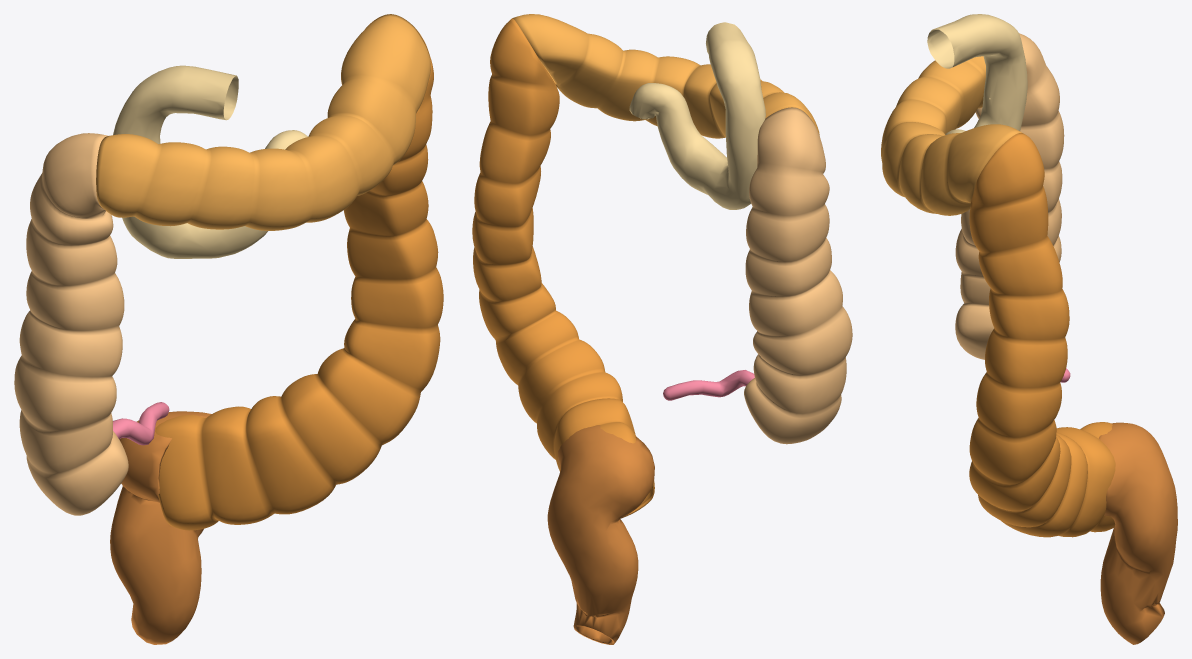
The model's file is gut.glb.
The picture shows the model from 3 angles, left to right: view 1: azimuth 30°, elevation 25°; view 2: azimuth 150°, elevation 25°; view 3: azimuth 270°, elevation 25°; orthographic projection. The views are drawn at different scales.
Visible parts, largest first — view 1: Descending colon.001, Transverse colon.001, Ascending colon.001, Sigmoid colon.001, Duodenum.001, Vermiform appendix.001; view 2: Descending colon.001, Ascending colon.001, Sigmoid colon.001, Transverse colon.001, Duodenum.001, Vermiform appendix.001; view 3: Descending colon.001, Transverse colon.001, Sigmoid colon.001, Ascending colon.001, Duodenum.001.
Boxes of the visible parts, x1,y1,x2,y2 form: Descending colon.001: [155, 17, 443, 530]; Transverse colon.001: [96, 14, 430, 230]; Ascending colon.001: [14, 133, 128, 515]; Sigmoid colon.001: [110, 411, 211, 644]; Duodenum.001: [113, 65, 308, 258]; Vermiform appendix.001: [113, 402, 169, 445]; Descending colon.001: [472, 18, 654, 518]; Ascending colon.001: [744, 107, 852, 444]; Sigmoid colon.001: [547, 425, 654, 644]; Transverse colon.001: [512, 14, 819, 138]; Duodenum.001: [629, 22, 765, 209]; Vermiform appendix.001: [663, 370, 754, 400]; Descending colon.001: [969, 133, 1115, 537]; Transverse colon.001: [881, 56, 1021, 215]; Sigmoid colon.001: [1098, 422, 1177, 644]; Ascending colon.001: [955, 33, 1064, 359]; Duodenum.001: [927, 14, 1027, 134].
Size of the model in its own units: 1.75 by 2.6 by 1.17.
